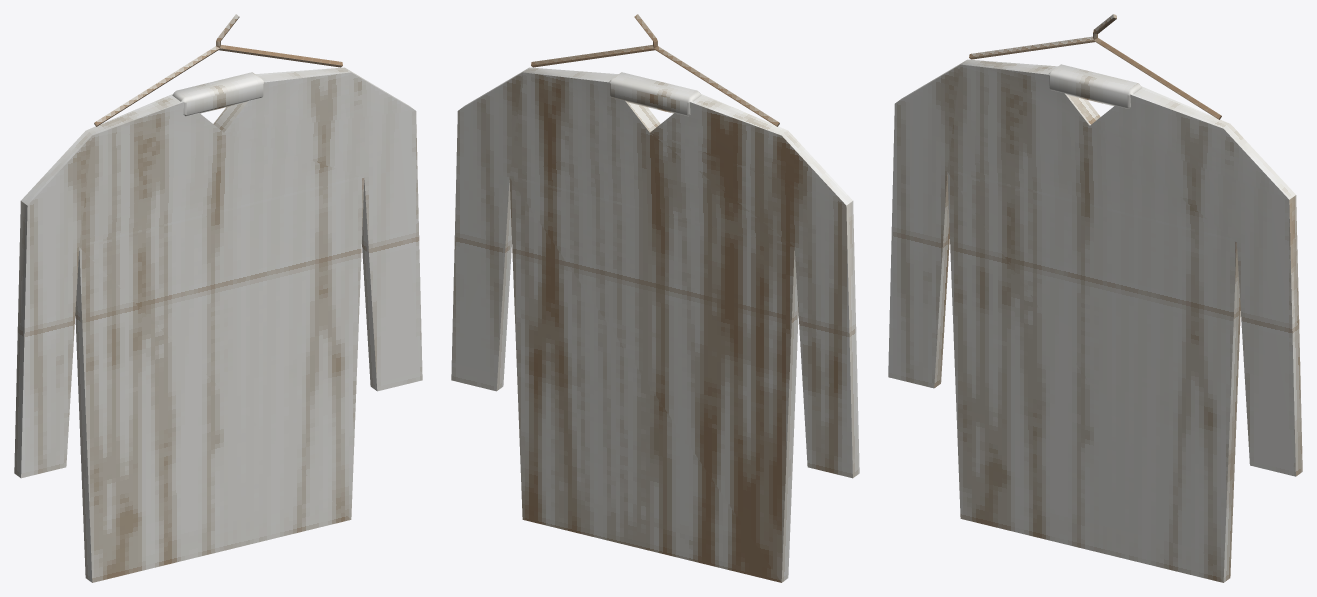
File: laundry_shirt.glb
The picture shows the model from 3 angles, left to right: view 1: azimuth 30°, elevation 25°; view 2: azimuth 150°, elevation 25°; view 3: azimuth 330°, elevation 25°; orthographic projection.
Visible parts, largest first — view 1: mesh; view 2: mesh; view 3: mesh.
Part boxes in pixels (<box>): mesh: <box>14,14,422,582</box>; mesh: <box>451,14,859,582</box>; mesh: <box>888,14,1302,582</box>.
Bounding box in the file's own units: 0.6201 × 0.783 × 0.035.
Materials: 1 (1 with a texture image).
